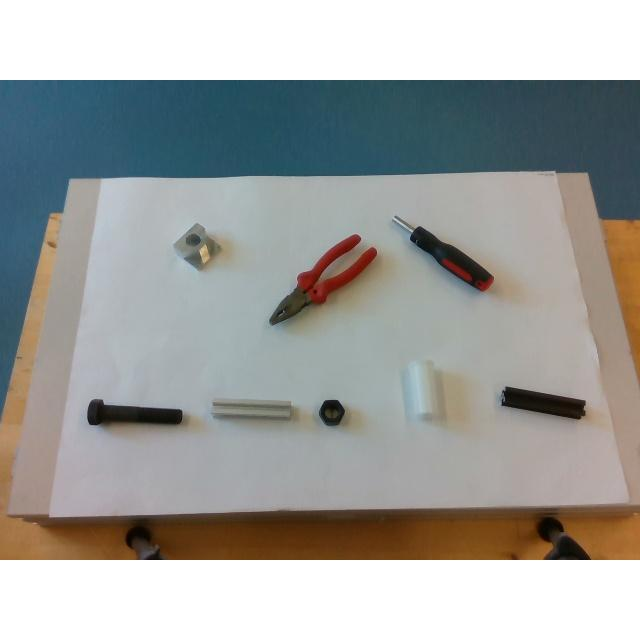F20_20_B: (501, 387, 585, 419)
F20_20_G: (212, 399, 292, 419)
M20: (320, 399, 344, 425)
M20_100: (86, 399, 182, 425)
Spacer: (404, 360, 444, 420)
